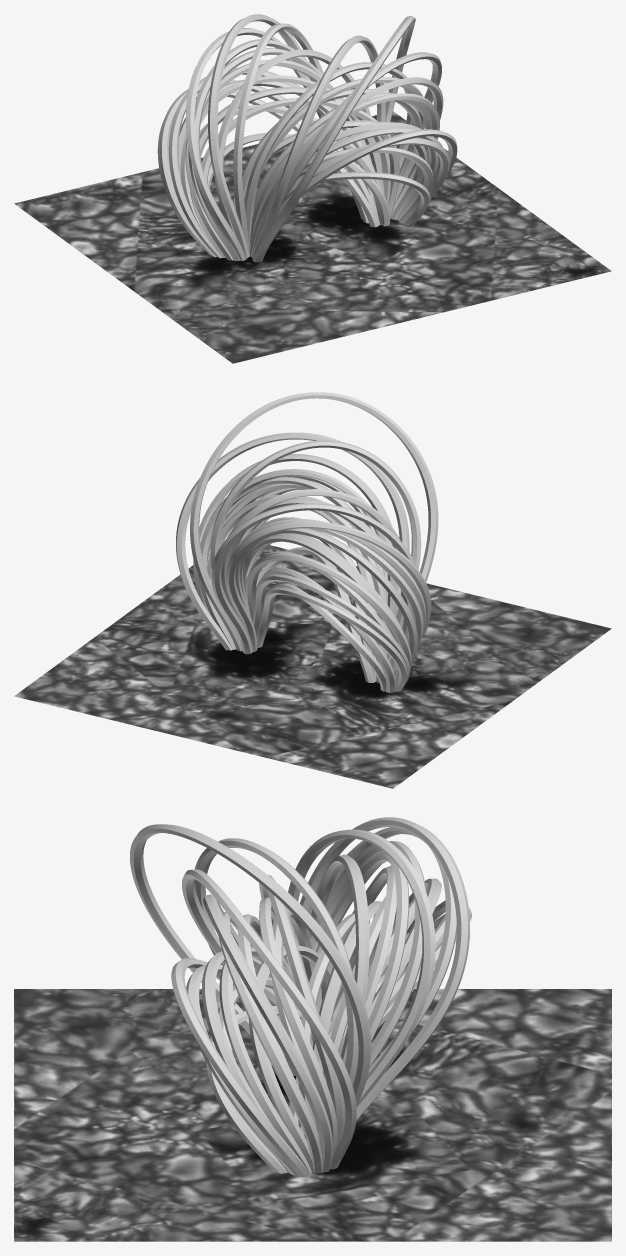
3 views of the same model, one above another, from view 1: azimuth 30°, elevation 25°; view 2: azimuth 150°, elevation 25°; view 3: azimuth 270°, elevation 25° (orthographic). The views are drawn at different scales.
Visible parts, largest first — view 1: Plane.001, mesh0.001; view 2: Plane.001, mesh0.001; view 3: Plane.001, mesh0.001.
Boxes of the visible parts, x1=… form: Plane.001: x1=14, y1=111, x2=611, y2=363; mesh0.001: x1=157, y1=14, x2=457, y2=262; Plane.001: x1=14, y1=545, x2=611, y2=788; mesh0.001: x1=176, y1=392, x2=438, y2=693; Plane.001: x1=14, y1=989, x2=611, y2=1241; mesh0.001: x1=130, y1=817, x2=471, y2=1176.
Bounding box in the file's own units: 17.54 × 10.23 × 17.54.
2 materials, 1 textured.
